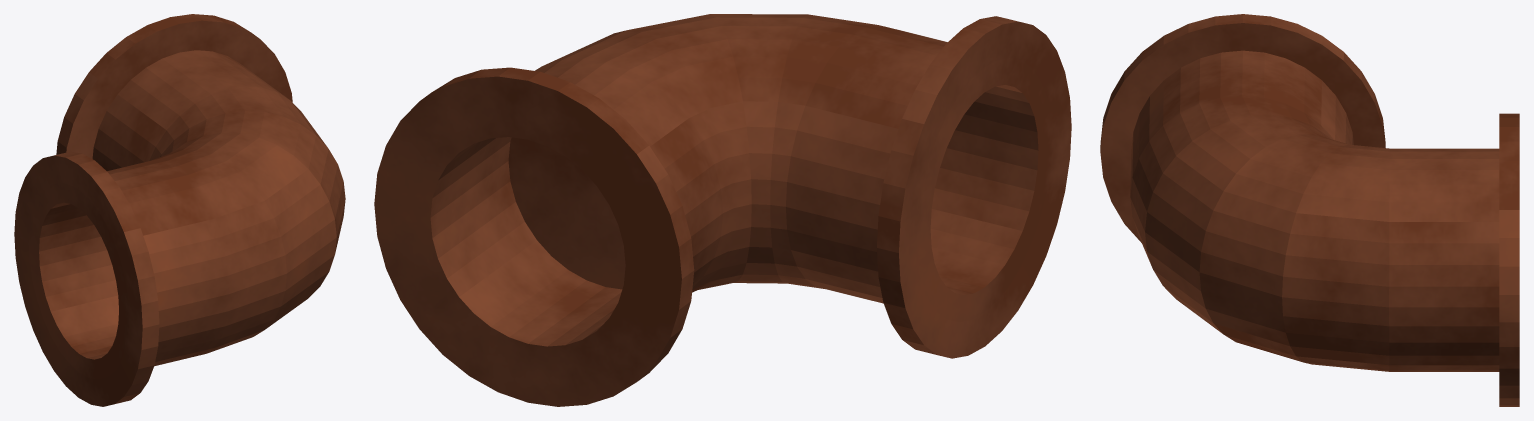
File: Two end angle pipe.glb
3 renders of one model, left to right at view 1: azimuth 30°, elevation 25°; view 2: azimuth 150°, elevation 25°; view 3: azimuth 270°, elevation 25°, orthographic. The views are drawn at different scales.
Parts seen in each view (by area): view 1: Two end short angle pipe; view 2: Two end short angle pipe; view 3: Two end short angle pipe.
Boxes of the visible parts, left/top/right/bottom form: Two end short angle pipe: left=14, top=14, right=345, bottom=406; Two end short angle pipe: left=374, top=14, right=1071, bottom=406; Two end short angle pipe: left=1100, top=14, right=1519, bottom=406.
Bounding box in the file's own units: 0.7645 × 0.5298 × 0.756.
Materials: 1 (1 with a texture image).
